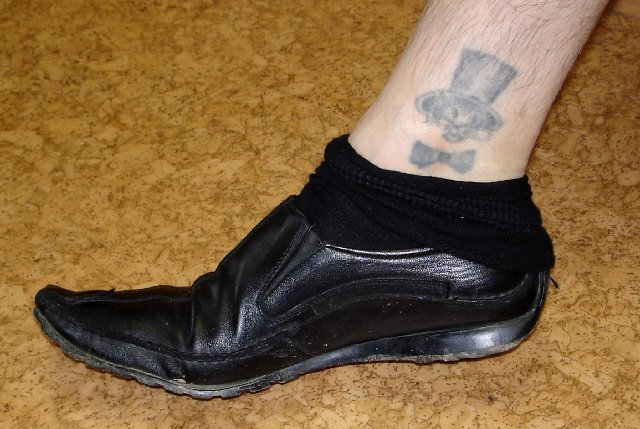tatu8_kot: (412, 35, 518, 174)
